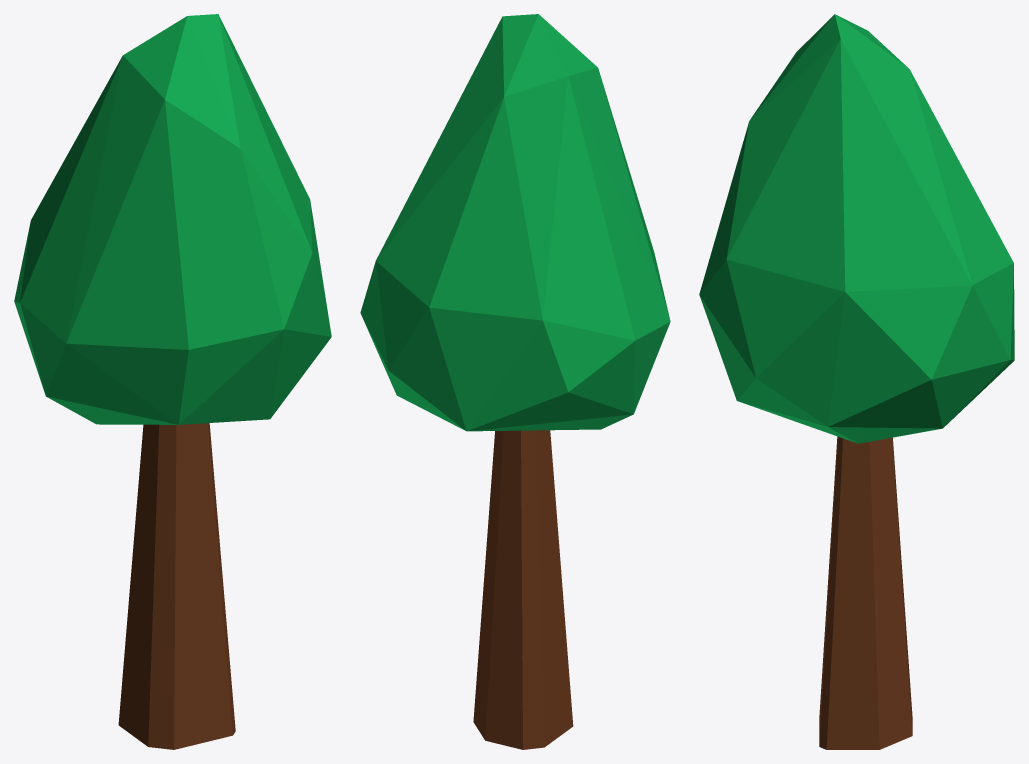
Rendered from tree3.glb.
3 renders of one model, left to right at view 1: azimuth 30°, elevation 25°; view 2: azimuth 150°, elevation 25°; view 3: azimuth 270°, elevation 25°, orthographic. The views are drawn at different scales.
Visible parts, largest first — view 1: Arvore_Dois_Escura; view 2: Arvore_Dois_Escura; view 3: Arvore_Dois_Escura.
Part boxes in pixels (<box>): Arvore_Dois_Escura: <box>14,14,331,749</box>; Arvore_Dois_Escura: <box>360,14,670,749</box>; Arvore_Dois_Escura: <box>699,14,1014,749</box>.
Size of the model in its own units: 3.69 by 9.51 by 3.81.
Materials: 1 (1 with a texture image).
